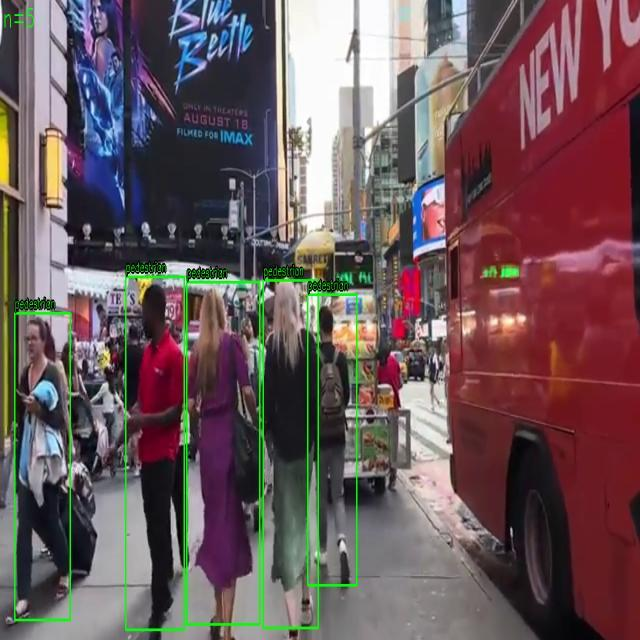with scooter: (186, 282, 260, 625), (126, 276, 184, 630), (263, 280, 319, 628), (15, 312, 70, 620), (307, 294, 357, 586)
